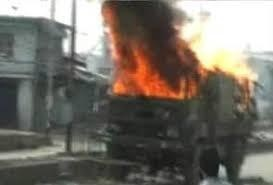fire: (107, 12, 201, 99)
